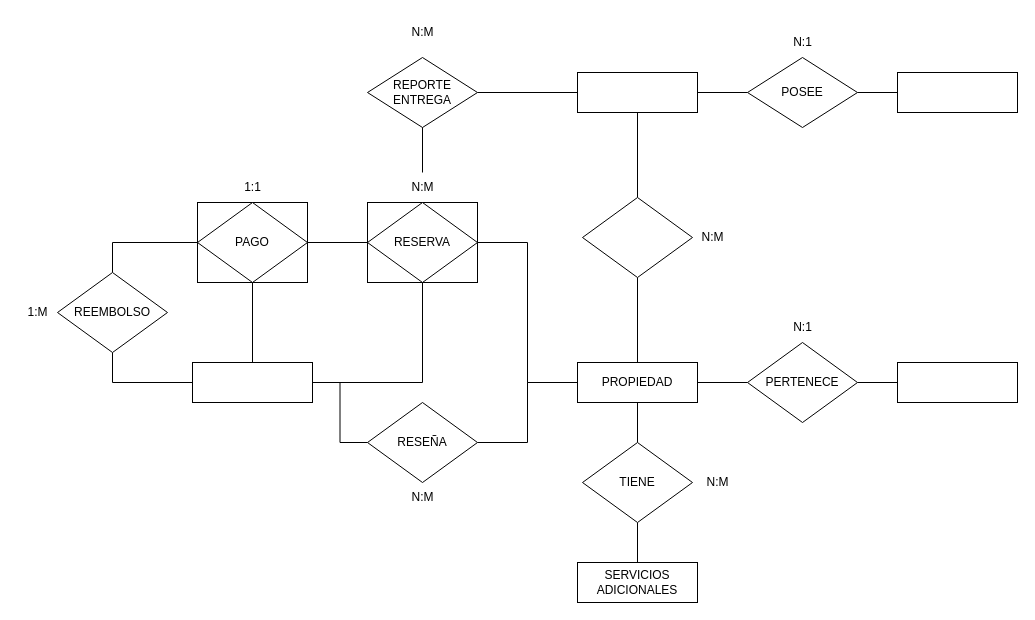
The diagram is 1035 pixels wide and 620 high, and some of its shapes have lost their labels. The centre of each missing label's shape, as x and y in pixels:
"CARGO" goes at (957,92).
"EMPLEADO" goes at (637,92).
"HUESPED" goes at (252,382).
"TIPO PROPIEDAD" goes at (957,382).
"TRABAJA" goes at (637,237).
